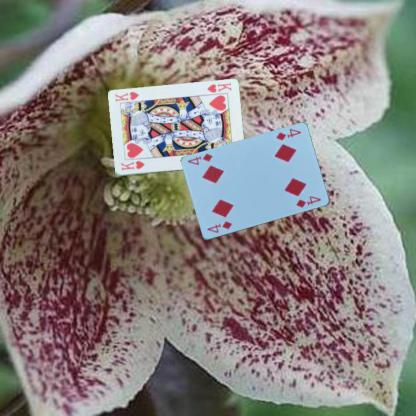4d: (204, 218, 234, 234), (273, 126, 302, 142)
Kh: (118, 158, 146, 172), (204, 80, 232, 94)
